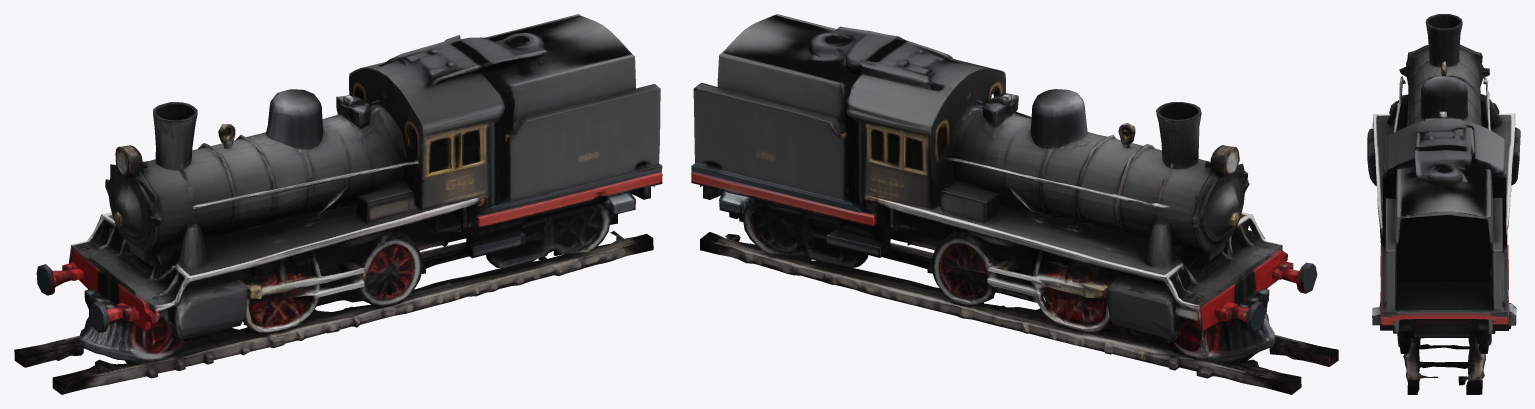
3 renders of one model, left to right at view 1: azimuth 30°, elevation 25°; view 2: azimuth 150°, elevation 25°; view 3: azimuth 270°, elevation 25°, orthographic. The views are drawn at different scales.
Parts seen in each view (by area): view 1: world; view 2: world; view 3: world.
Boxes of the visible parts, x1=… form: world: x1=14, y1=14, x2=662, y2=394; world: x1=691, y1=14, x2=1338, y2=394; world: x1=1367, y1=14, x2=1520, y2=394.
Size of the model in its own units: 1 by 0.3773 by 0.274.
1 material, 1 textured.
